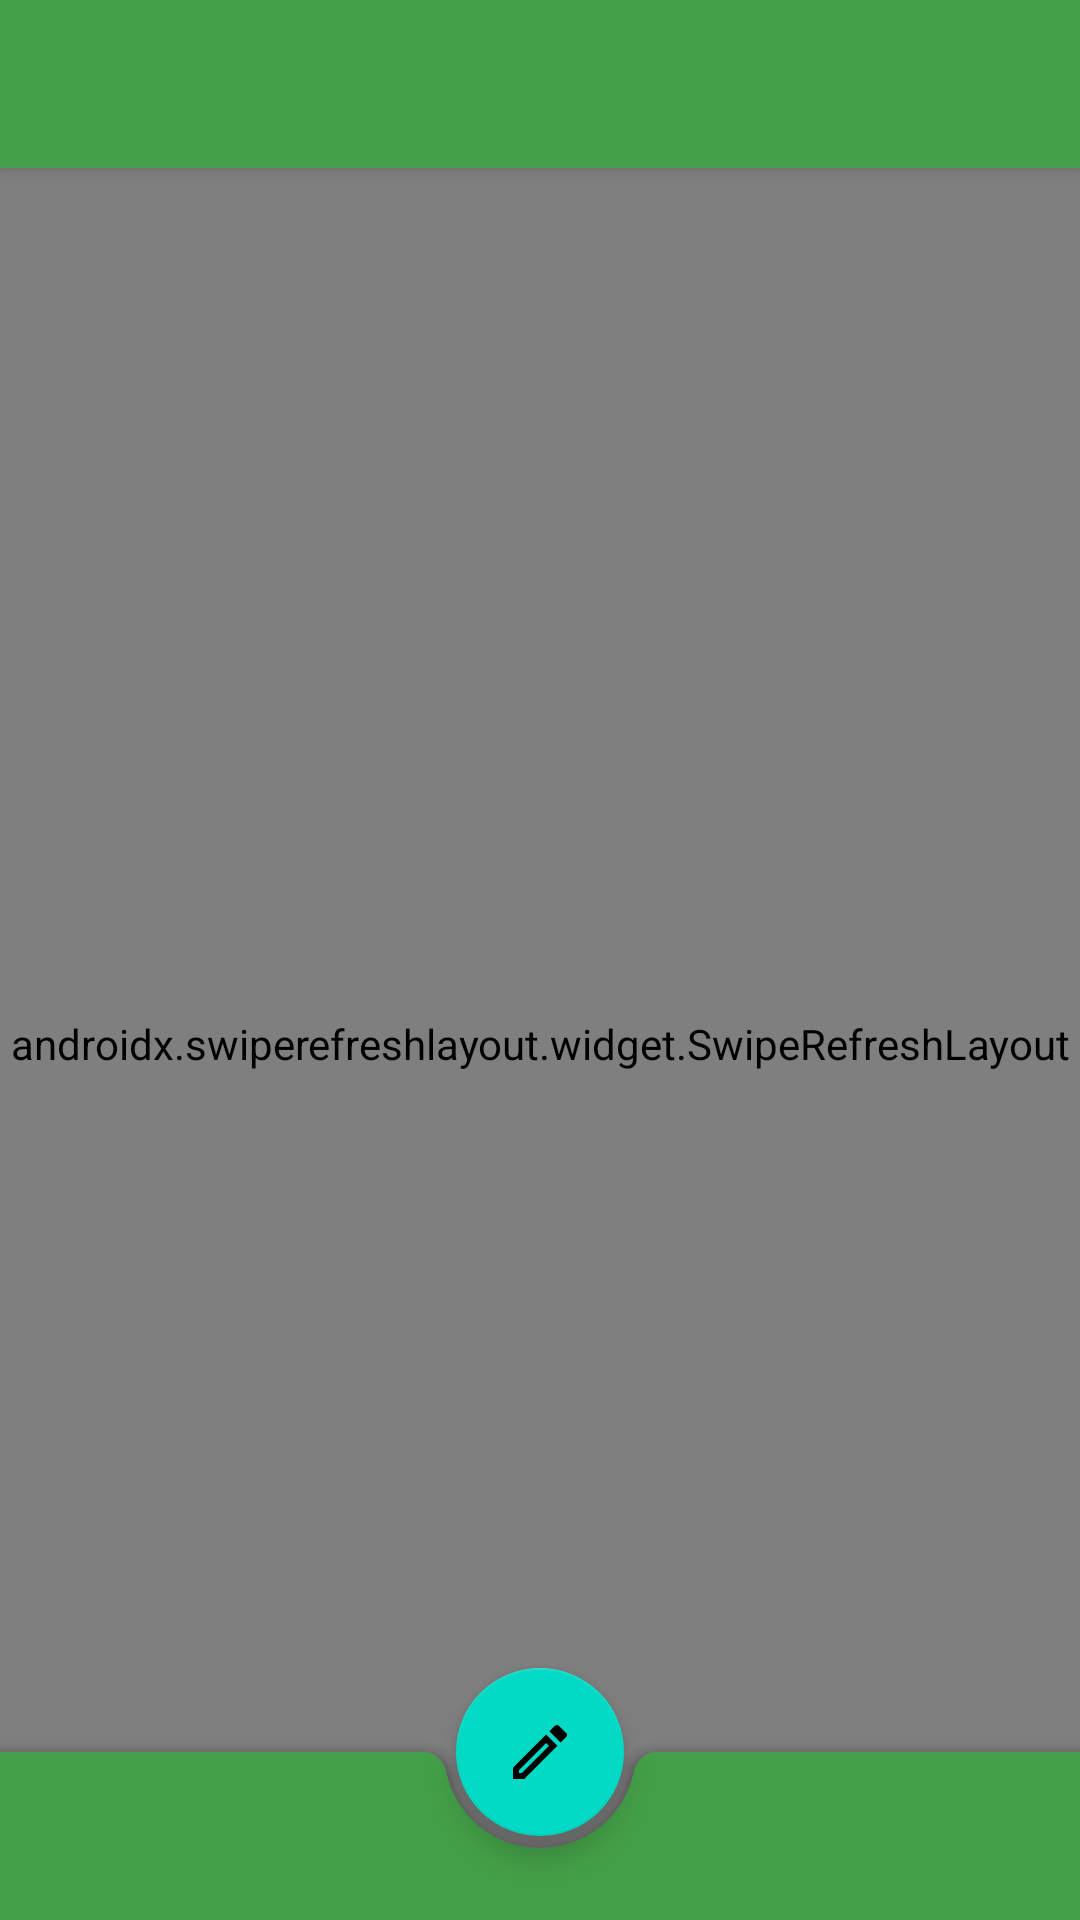

Icons on this 1080w x 1920h Android screen, each with its box as (x1, y1, x2, y2):
pencil: (456, 1668, 624, 1836)
